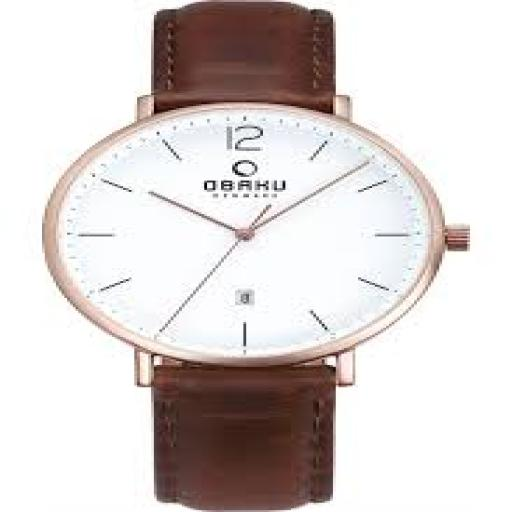KolSaati: (24, 1, 476, 512)
